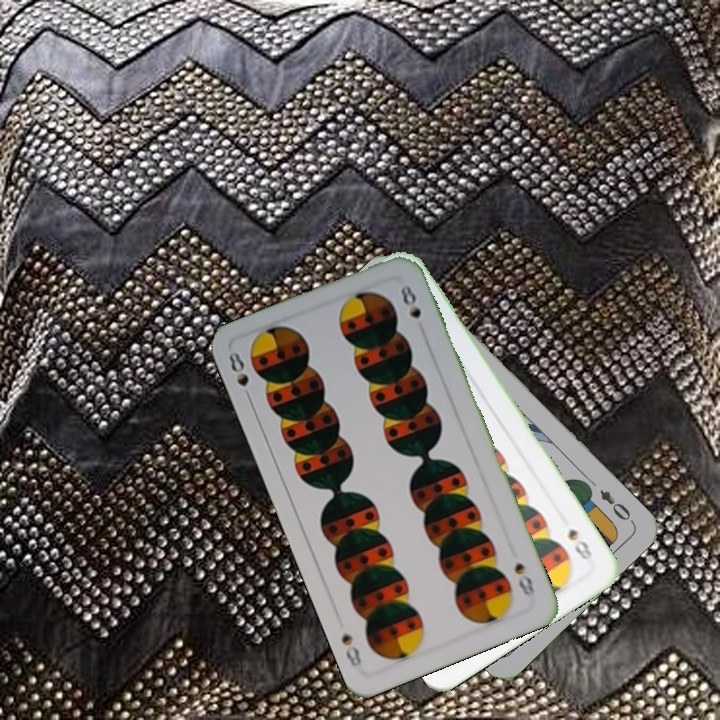EO: (595, 485, 637, 526)
S8: (224, 347, 255, 405), (563, 524, 598, 566), (510, 558, 537, 599)
